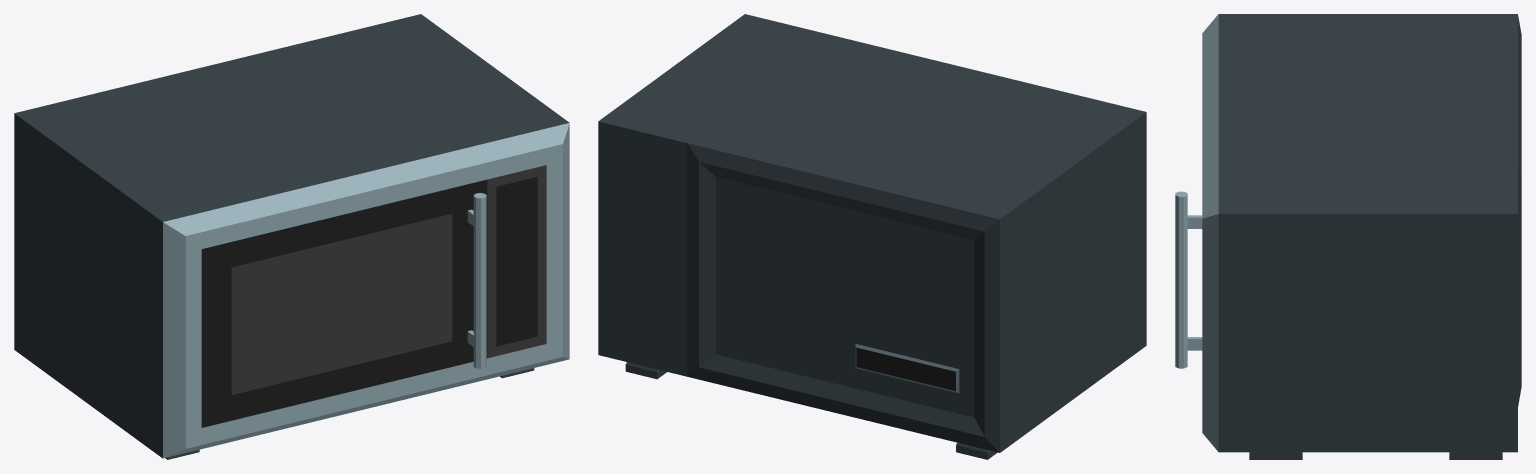
The model's file is KA_Micro_V2.glb.
The picture shows the model from 3 angles, left to right: view 1: azimuth 30°, elevation 25°; view 2: azimuth 150°, elevation 25°; view 3: azimuth 270°, elevation 25°; orthographic projection.
Visible parts, largest first — view 1: KA_Micro_V2, KA_Microwave_V1_Door; view 2: KA_Micro_V2, KA_Microwave_V1_Door; view 3: KA_Micro_V2, KA_Microwave_V1_Door.
Boxes of the visible parts, x1,y1,x2,y2 form: KA_Micro_V2: (14, 14, 569, 459); KA_Microwave_V1_Door: (155, 139, 487, 458); KA_Micro_V2: (598, 14, 1139, 459); KA_Microwave_V1_Door: (827, 36, 1146, 350); KA_Micro_V2: (1202, 14, 1521, 459); KA_Microwave_V1_Door: (1175, 14, 1233, 368).
Bounding box in the file's own units: 0.45 × 0.2685 × 0.3293.
Materials: 2 (2 with a texture image).
